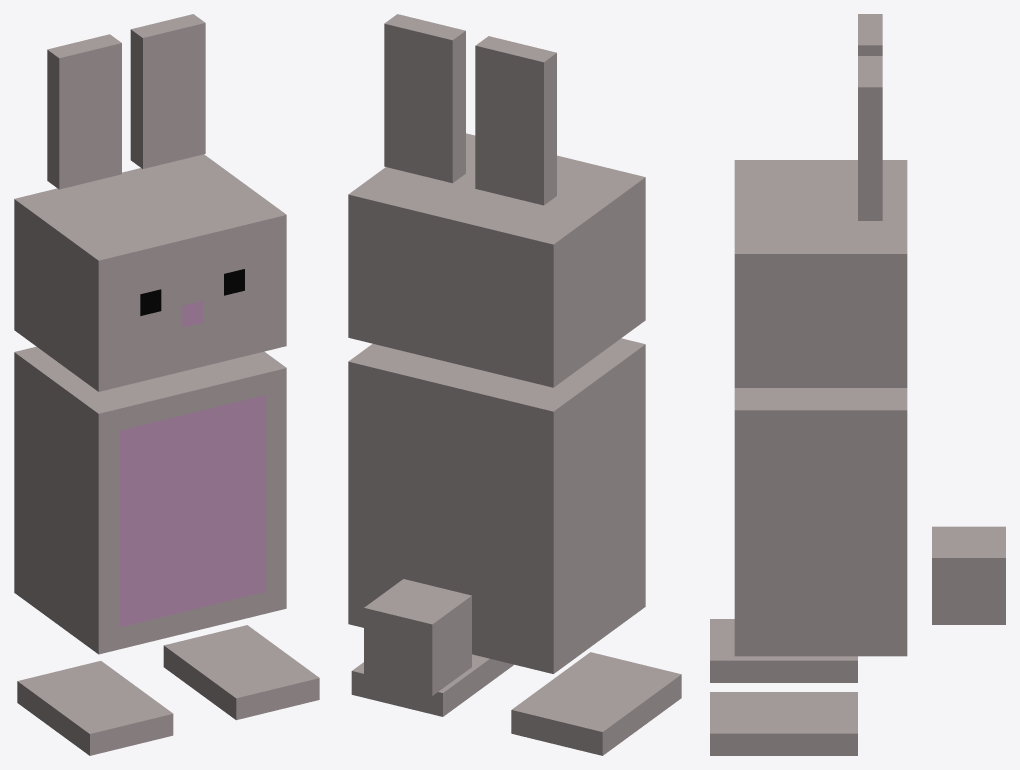
The model's file is Bunny.fbx.
3 views of the same model, side by side, from view 1: azimuth 30°, elevation 25°; view 2: azimuth 150°, elevation 25°; view 3: azimuth 270°, elevation 25° (orthographic). The views are drawn at different scales.
Parts seen in each view (by area): view 1: Body, Head, LegR, LegR.001, EarR_tip, EarL_tip, EarR_base, EarL_base; view 2: Body, Head, LegR, Tail, EarL_tip, EarR_tip, EarL_base, EarR_base, LegR.001; view 3: Body, Head, LegR.001, Tail, LegR, EarR_tip, EarR_base, EarL_tip.
Boxes of the visible parts, box(x1,y1,x2,y2) form: Body: box(14, 346, 286, 654); Head: box(14, 154, 286, 391); LegR: box(17, 661, 173, 755); LegR.001: box(163, 625, 319, 720); EarR_tip: box(130, 14, 205, 103); EarL_tip: box(47, 34, 121, 123); EarR_base: box(130, 88, 205, 168); EarL_base: box(47, 108, 121, 189); Body: box(348, 338, 645, 673); Head: box(348, 133, 645, 387); LegR: box(511, 652, 681, 755); Tail: box(364, 579, 471, 695); EarL_tip: box(475, 36, 556, 133); EarR_tip: box(384, 14, 465, 111); EarL_base: box(475, 117, 556, 205); EarR_base: box(384, 95, 465, 183); LegR.001: box(351, 654, 513, 716); Body: box(734, 388, 907, 656); Head: box(734, 160, 907, 387); LegR.001: box(710, 692, 857, 755); Tail: box(932, 526, 1005, 624); LegR: box(710, 619, 857, 682); EarR_tip: box(858, 56, 882, 153); EarR_base: box(858, 154, 882, 220); EarL_tip: box(858, 14, 882, 55).
Bounding box in the file's own units: 110 × 290 × 120.
